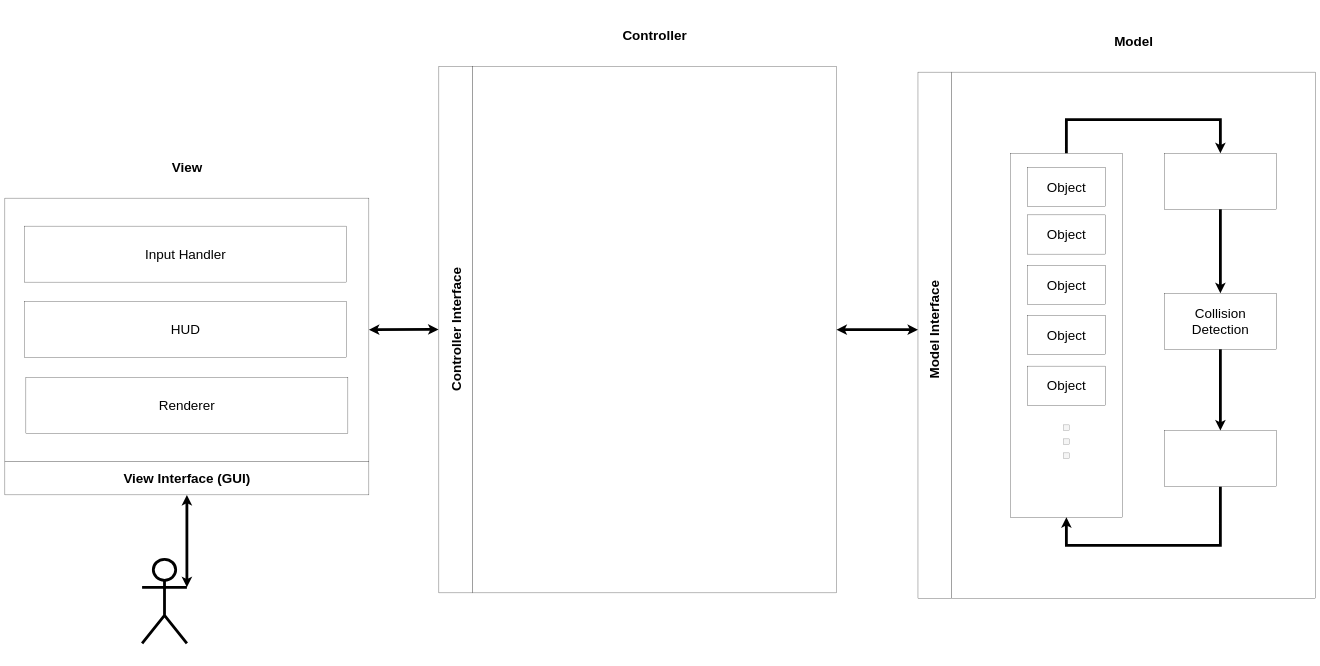
Some shapes in this 1320 by 666 pixel diagram are drawn without their labels. Each missing label, with the centre of its shape:
Collision Resolution: pixel 1220 458
Motion Update: pixel 1220 181
User: pixel 164 601
